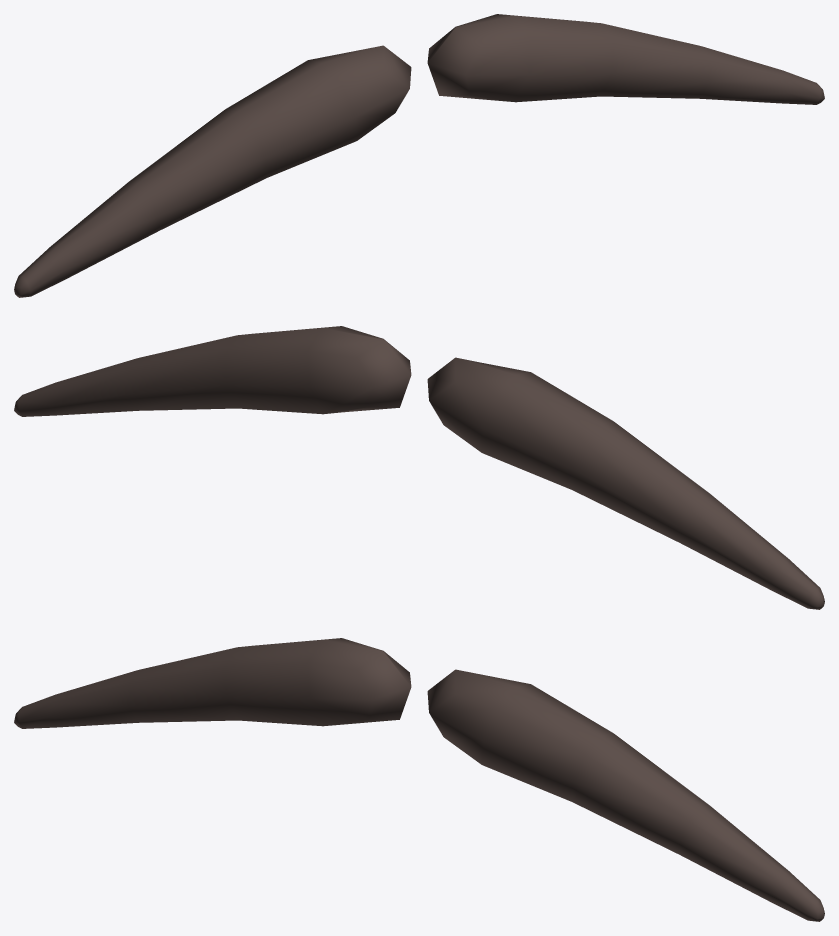
Rendered from Mustache_12.glb.
3 renders of one model, top to bottom at view 1: azimuth 30°, elevation 25°; view 2: azimuth 150°, elevation 25°; view 3: azimuth 330°, elevation 25°, orthographic.
Parts seen in each view (by area): view 1: Mustache_12; view 2: Mustache_12; view 3: Mustache_12.
Part boxes in pixels (x1,y1,x2,y2): Mustache_12: (14, 14, 824, 297); Mustache_12: (14, 326, 824, 609); Mustache_12: (14, 638, 824, 921).
Bounding box in the file's own units: 0.2936 × 0.0567 × 0.0285.
Materials: 1 (1 with a texture image).
